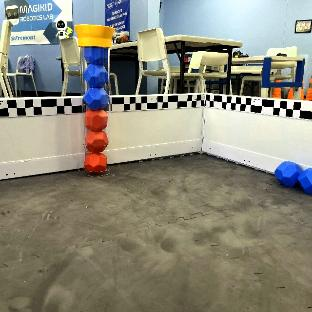V5_BLUE: (79, 39, 109, 109), (275, 162, 312, 193)
V5_RED: (85, 109, 108, 151), (84, 152, 107, 172), (288, 88, 292, 98)
